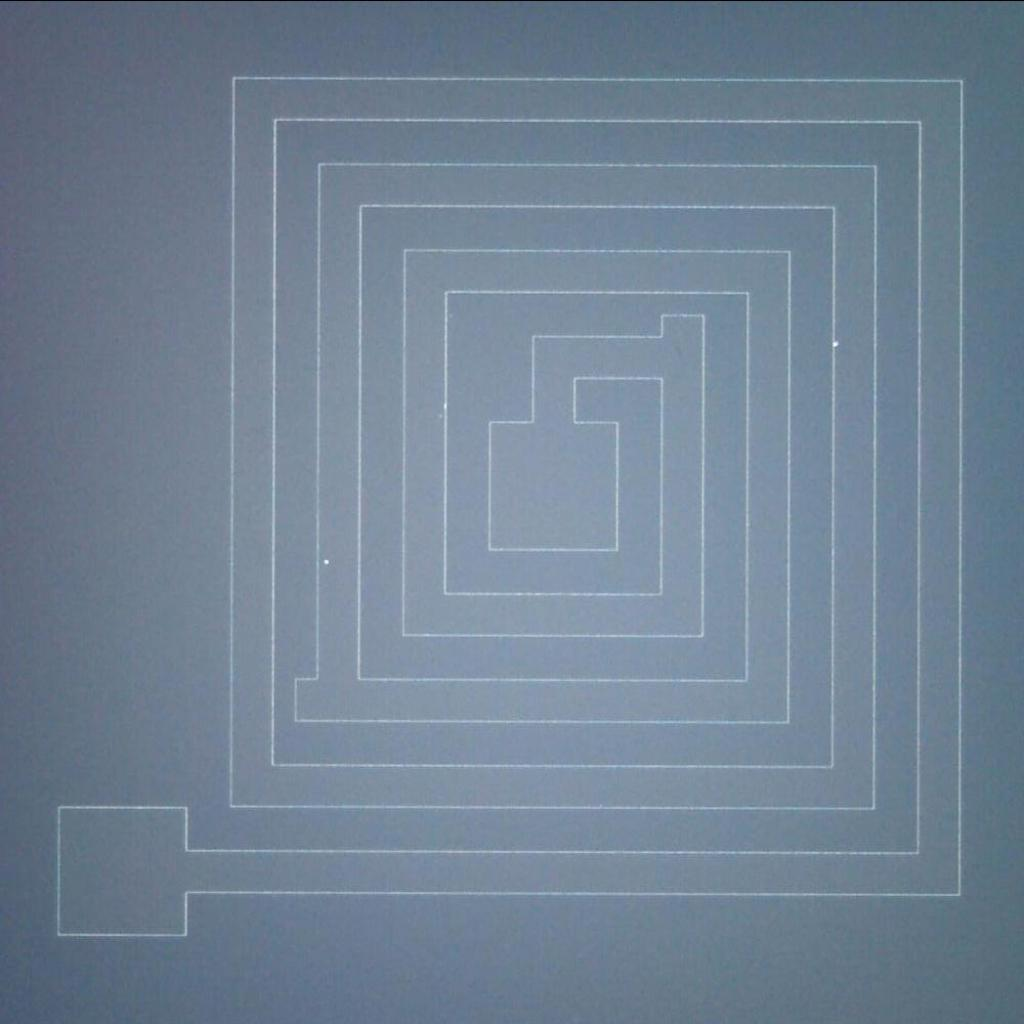budge circuit: (284, 667, 330, 727), (648, 305, 713, 346)
dot: (822, 328, 846, 355), (319, 550, 343, 575)
